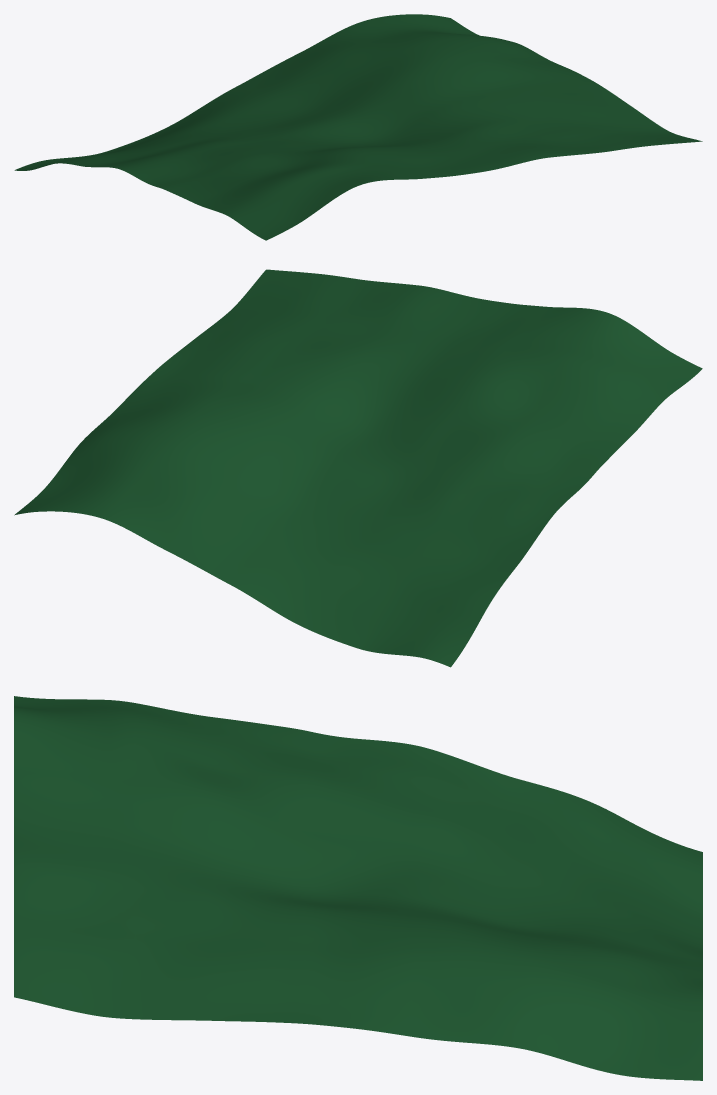
The model's file is payo_land_x0_ym3.glb.
3 renders of one model, top to bottom at view 1: azimuth 30°, elevation 25°; view 2: azimuth 150°, elevation 25°; view 3: azimuth 270°, elevation 25°, orthographic. The views are drawn at different scales.
Parts seen in each view (by area): view 1: payo_land_x0_ym3; view 2: payo_land_x0_ym3; view 3: payo_land_x0_ym3.
Boxes of the visible parts, x1,y1,x2,y2 form: payo_land_x0_ym3: (14, 14, 702, 240); payo_land_x0_ym3: (14, 269, 702, 667); payo_land_x0_ym3: (14, 696, 702, 1080).
Size of the model in its own units: 255 by 84.33 by 255.
